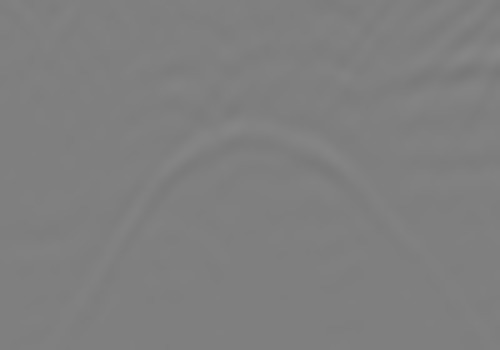hyperbola: (76, 114, 469, 325)
